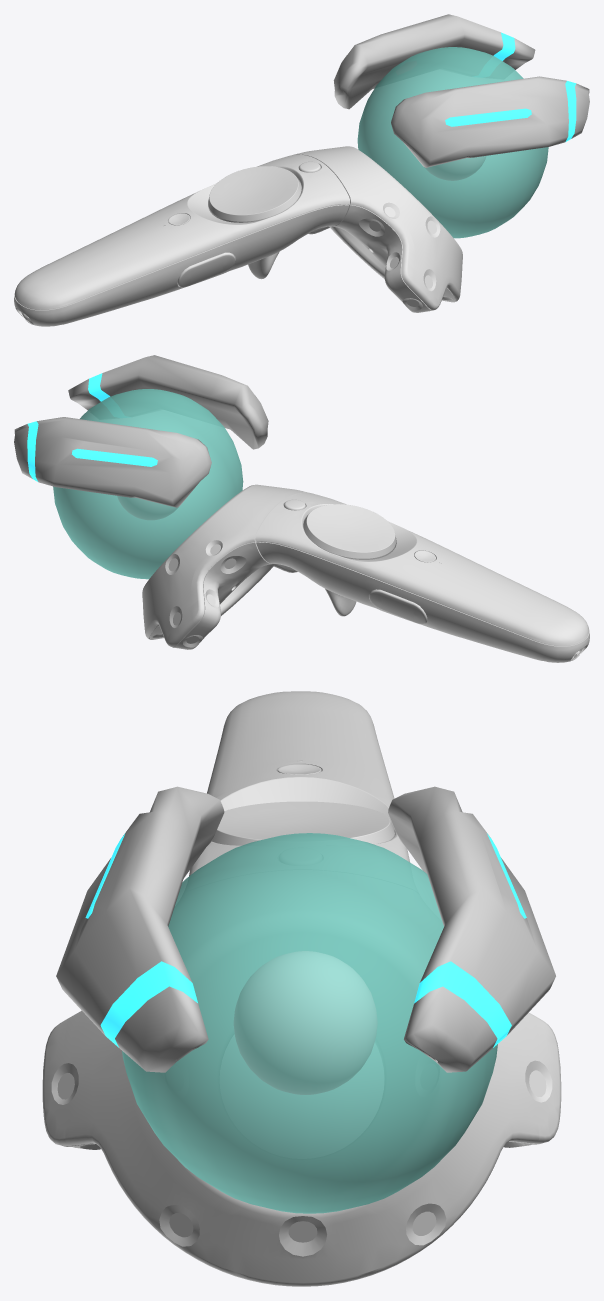
Rendered from teleporter.fbx.
The picture shows the model from 3 angles, top to bottom: view 1: azimuth 30°, elevation 25°; view 2: azimuth 150°, elevation 25°; view 3: azimuth 270°, elevation 25°; orthographic projection. The views are drawn at different scales.
Visible parts, largest first — view 1: whole_model group1.001, Cylinder.002, Sphere, Sphere.001; view 2: whole_model group1.001, Cylinder.002, Sphere, Sphere.001; view 3: Sphere, whole_model group1.001, Cylinder.002, Sphere.001.
Boxes of the visible parts, box(x1,y1,x2,y2) form: whole_model group1.001: box(14, 146, 462, 326); Cylinder.002: box(333, 14, 589, 167); Sphere: box(357, 47, 548, 238); Sphere.001: box(424, 156, 485, 180); whole_model group1.001: box(142, 484, 589, 662); Cylinder.002: box(14, 355, 268, 507); Sphere: box(53, 389, 243, 579); Sphere.001: box(117, 496, 178, 519); Sphere: box(122, 833, 497, 1213); whole_model group1.001: box(42, 691, 561, 1286); Cylinder.002: box(56, 786, 555, 1072); Sphere.001: box(234, 951, 377, 1094).
Bounding box in the file's own units: 547 × 222 × 227.
